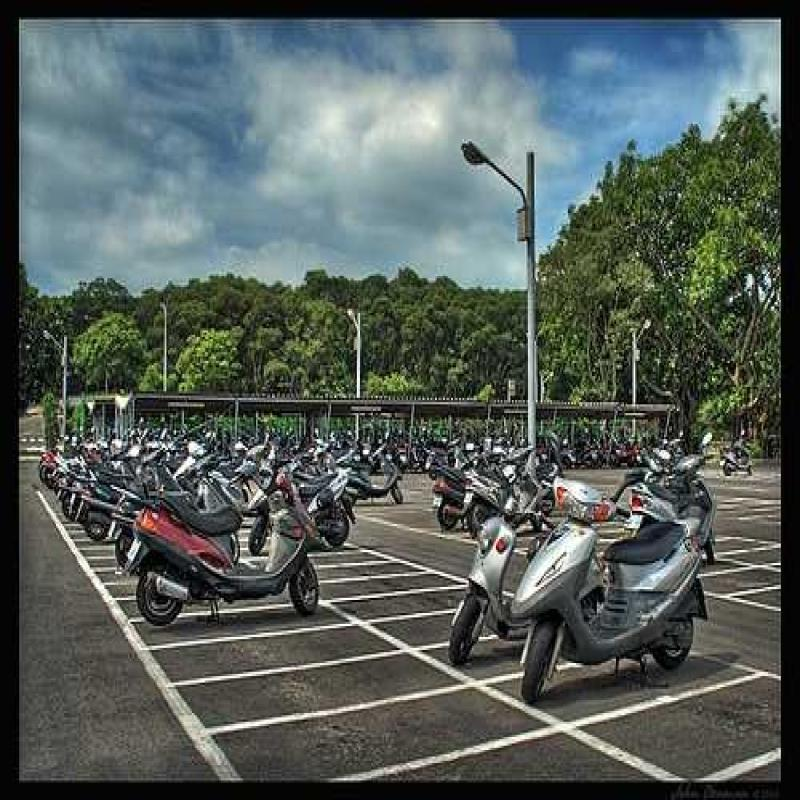bike: (530, 457, 722, 703), (122, 470, 336, 628), (444, 480, 554, 654), (340, 444, 410, 504), (724, 437, 764, 492)
